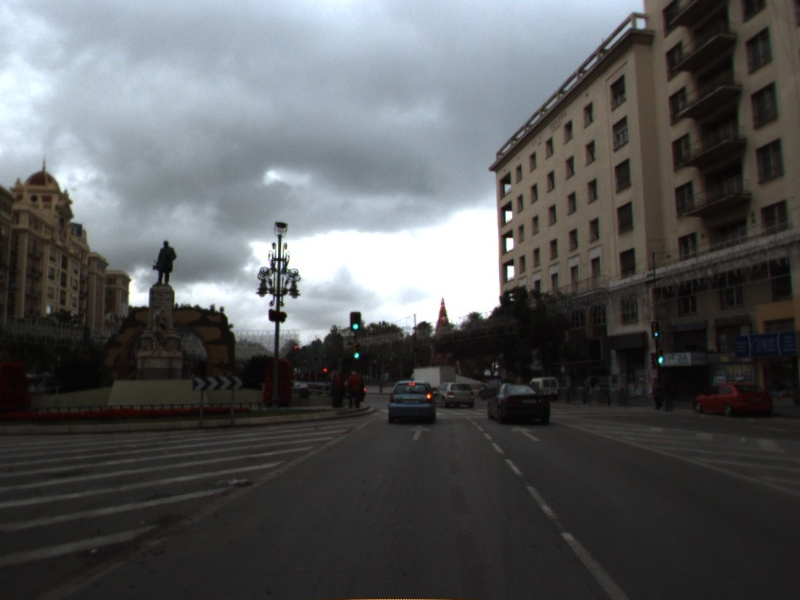STRAIGHT: (508, 423, 542, 443), (407, 423, 433, 442)
